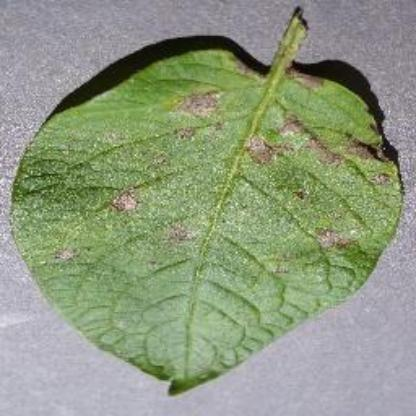Early-Blight: (10, 14, 402, 394)
